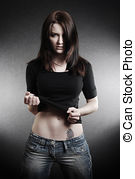face: (38, 13, 78, 64)
